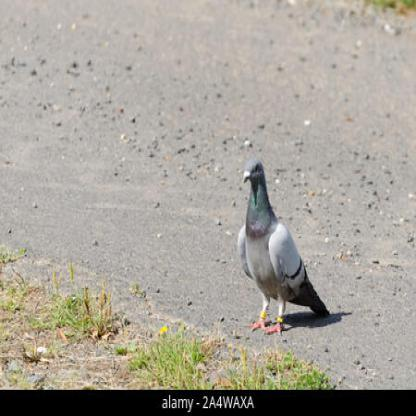Rock Pigeon: (237, 157, 343, 331)
